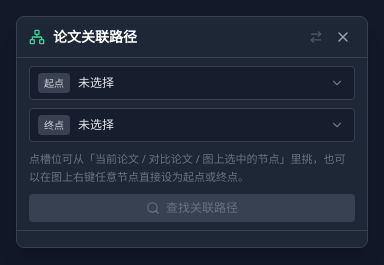
Test: ConnectionPanel slot picker › resolves a graph node the user selected into a real paper
This screenshot has width=384, height=265.
Click the button with aria-label "选择关联终点": click(199, 125) [78,117,320,133]
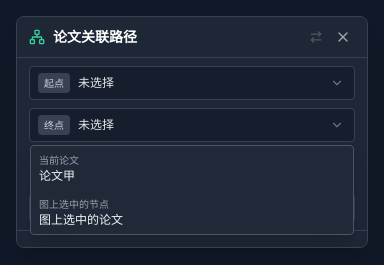
Click the text "图上选中的节点": click(74, 204) [39,197,109,211]
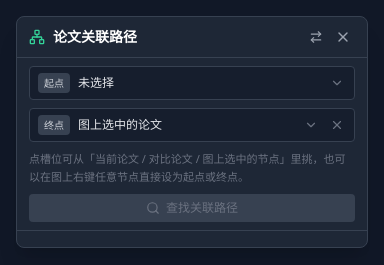
Now the button with aria-label "选择关联终点" reads "图上选中的论文", box [78,117,294,133]
